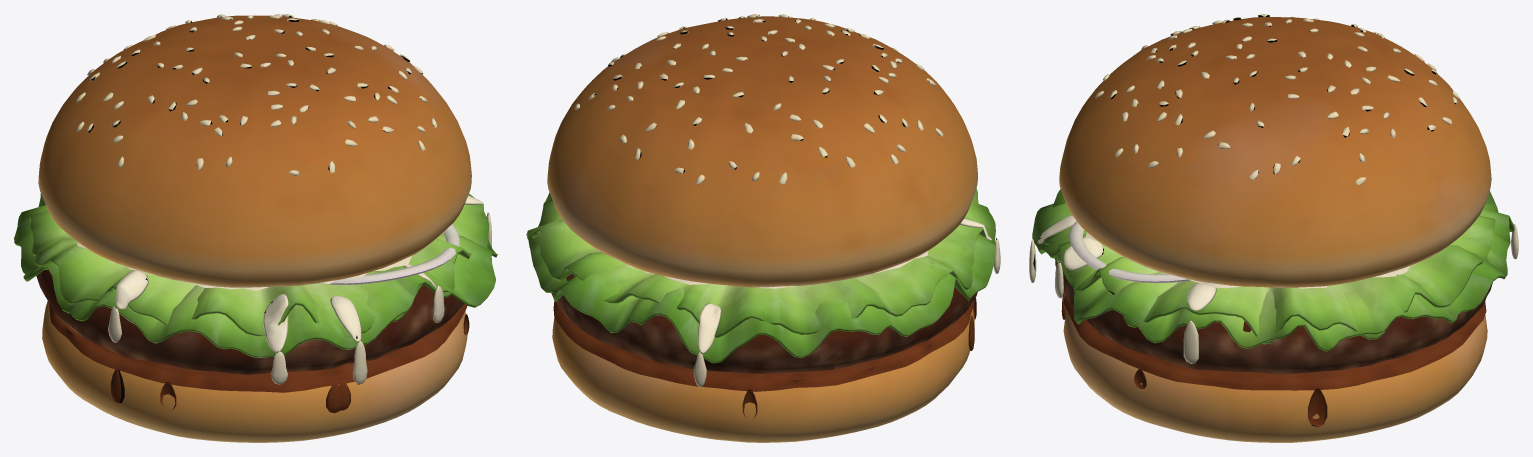
The model's file is FoodBulgogiBurger.fbx.
3 renders of one model, left to right at view 1: azimuth 30°, elevation 25°; view 2: azimuth 150°, elevation 25°; view 3: azimuth 270°, elevation 25°, orthographic.
Parts seen in each view (by area): view 1: FoodBulgogiBurger_Mesh; view 2: FoodBulgogiBurger_Mesh; view 3: FoodBulgogiBurger_Mesh.
Boxes of the visible parts, x1,y1,x2,y2 form: FoodBulgogiBurger_Mesh: (14,14,497,442); FoodBulgogiBurger_Mesh: (526,14,1000,442); FoodBulgogiBurger_Mesh: (1029,14,1518,442).
Size of the model in its own units: 0.1173 by 0.0881 by 0.1211.
